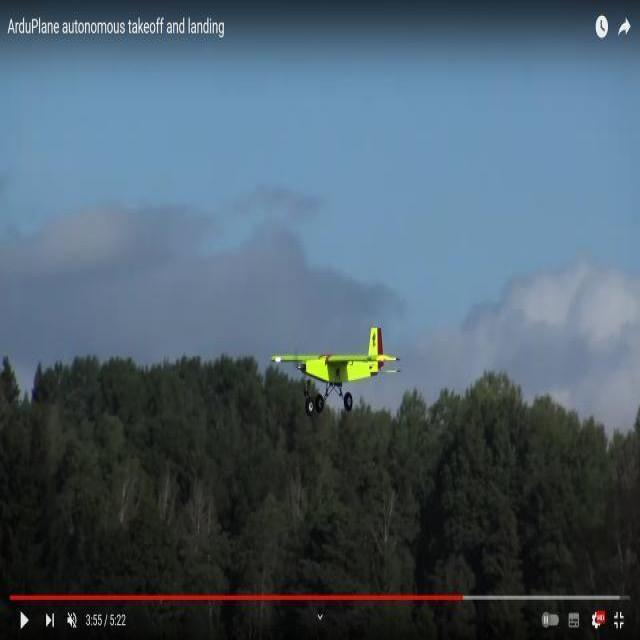iha: (268, 341, 420, 402)
